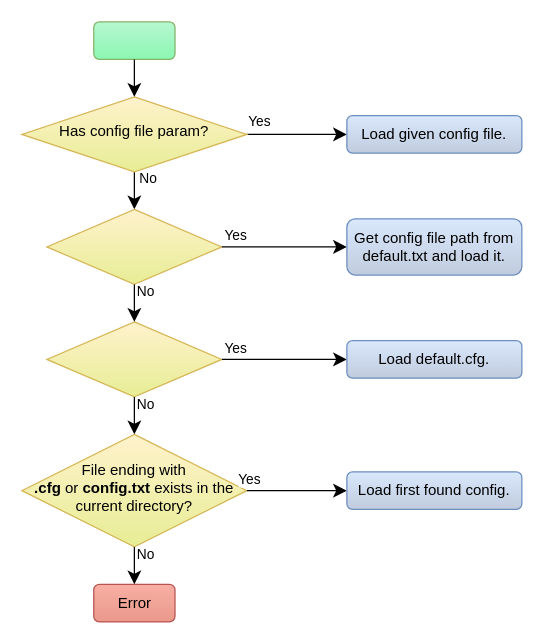
This 544x644 diagram has some shape labels left out. The shapes that lost their labels are listed below. From the top down, each one's centre as x and y in pixels, then its label:
pixel 133 40: Start
pixel 134 246: default.txt exists?
pixel 134 359: default.cfg exists?
